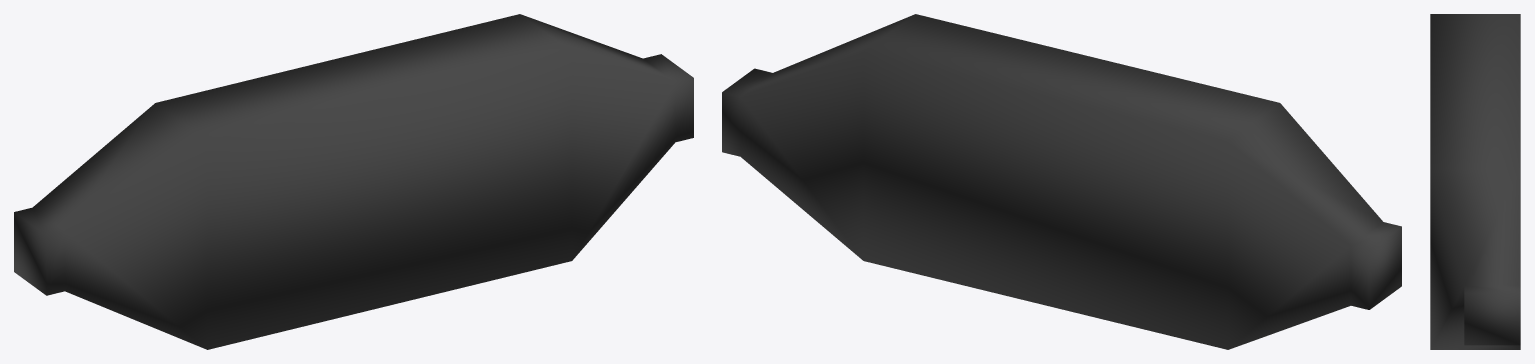
Rendered from pack_body.obj.
3 views of the same model, side by side, from view 1: azimuth 30°, elevation 25°; view 2: azimuth 150°, elevation 25°; view 3: azimuth 270°, elevation 25° (orthographic). The views are drawn at different scales.
Size of the model in its own units: 0.6999 by 0.2158 by 0.0976.
1 material, 1 textured.
